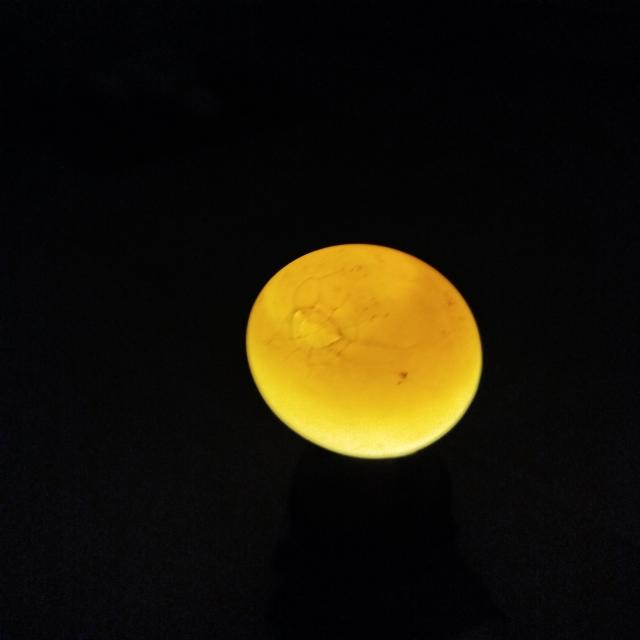Camara de Ar: (264, 243, 422, 332)
Rachadura: (281, 278, 352, 367)
